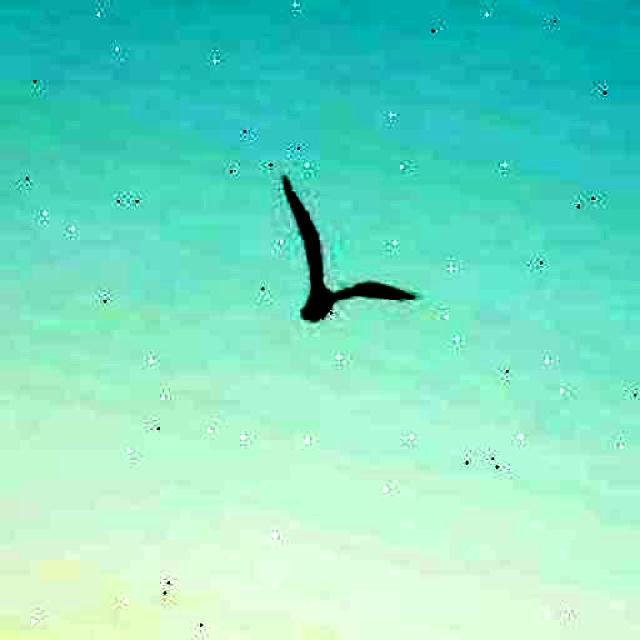airplane: (252, 174, 442, 344)
